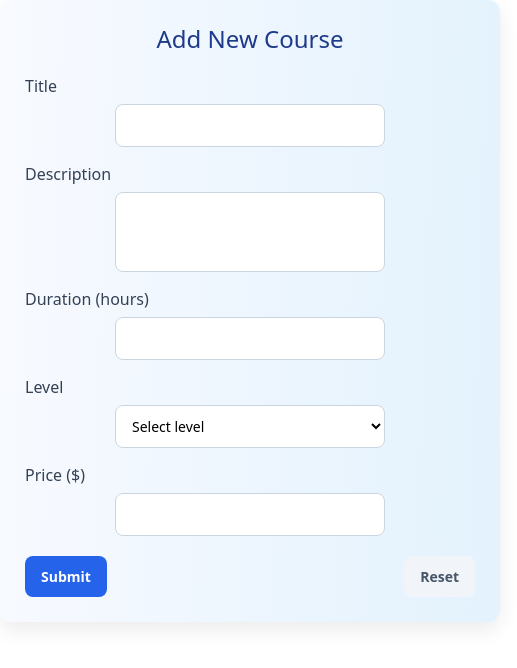
Test: State_shows api error on failure
This screenshot has width=517, height=668.
In the field with test id "title-input": point(250, 125) [115,104,385,147], type "New Course"
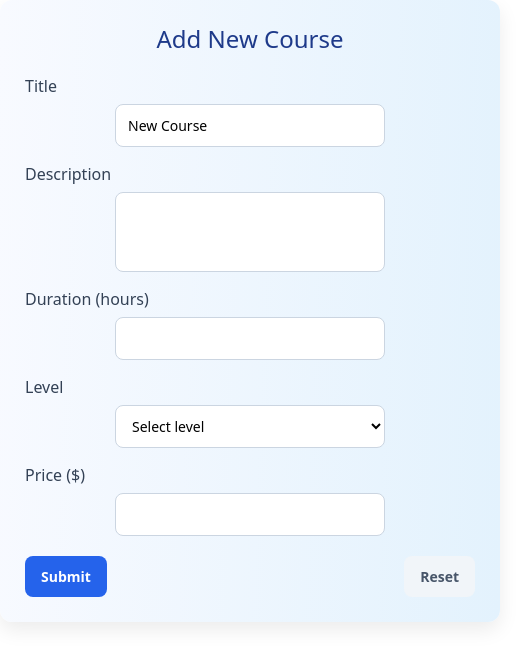
In the number field with test id "duration-input": point(250, 338) [115,317,385,360], type "10"
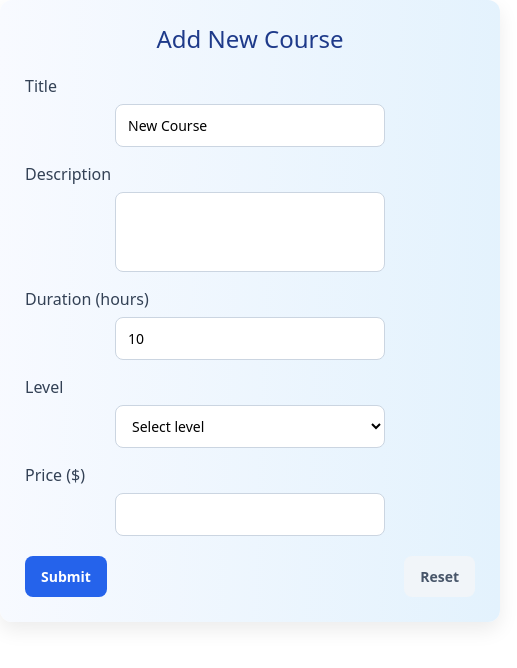
Select "Begineer" in the dropdown with test id "level-select": point(250, 426) [115,405,385,448]
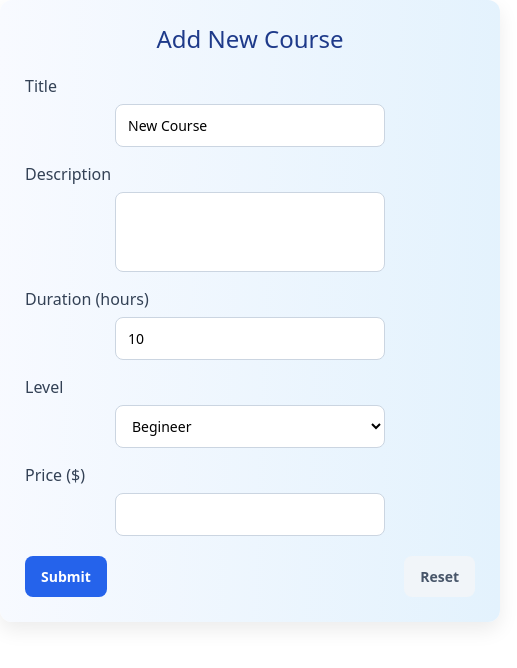
In the number field with test id "price-input": point(250, 514) [115,493,385,536], type "50"
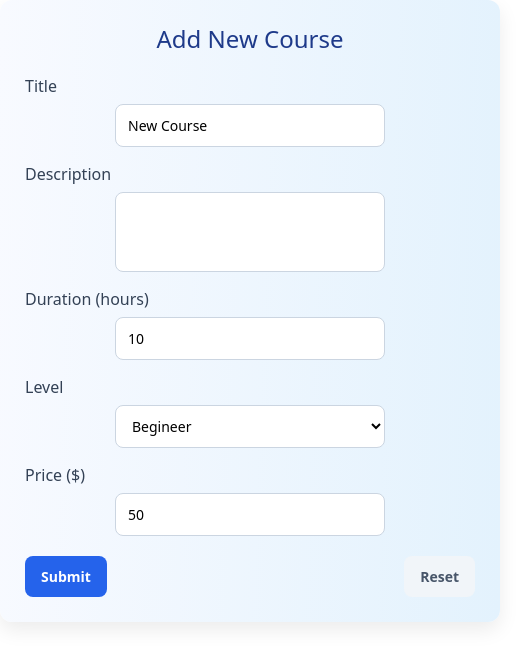
Click the button with test id "submit-btn": point(66, 576) [25,556,107,597]
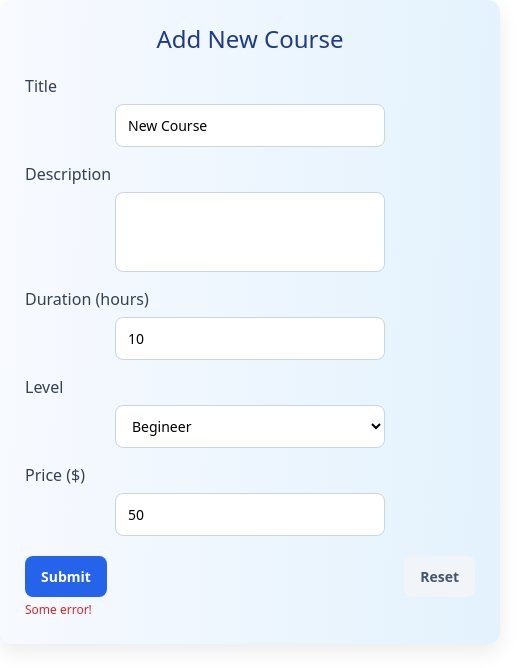
Result: the text "Some error!" is shown at [25,601,92,618]
